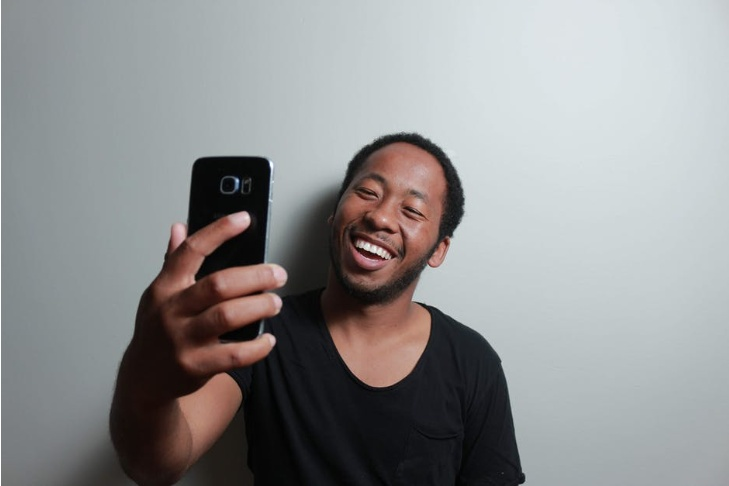face: (330, 145, 439, 286)
